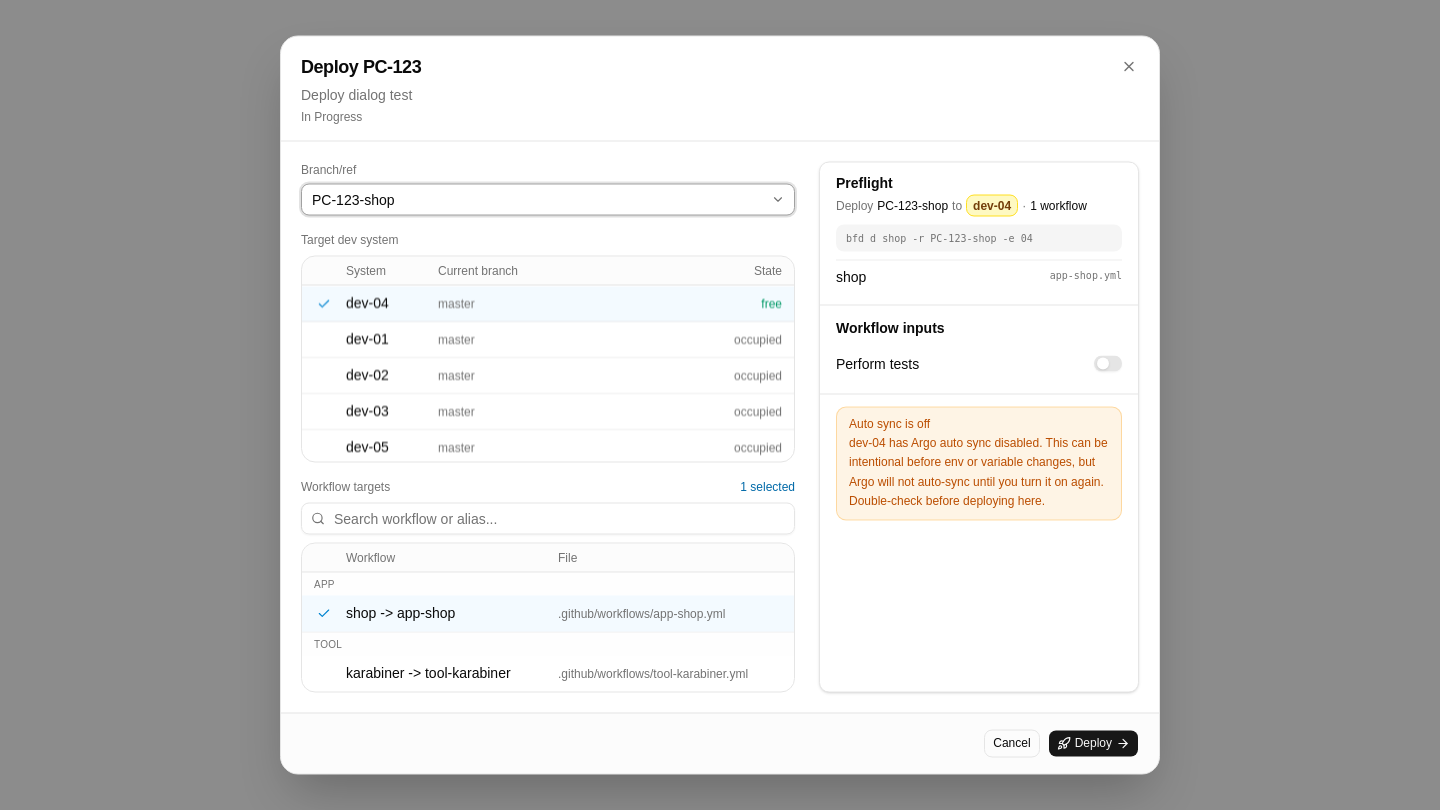
Test: allows deselecting every workflow and disables deploy
Click the text "shop -> app-shop": (401, 613) [346, 605, 455, 621]
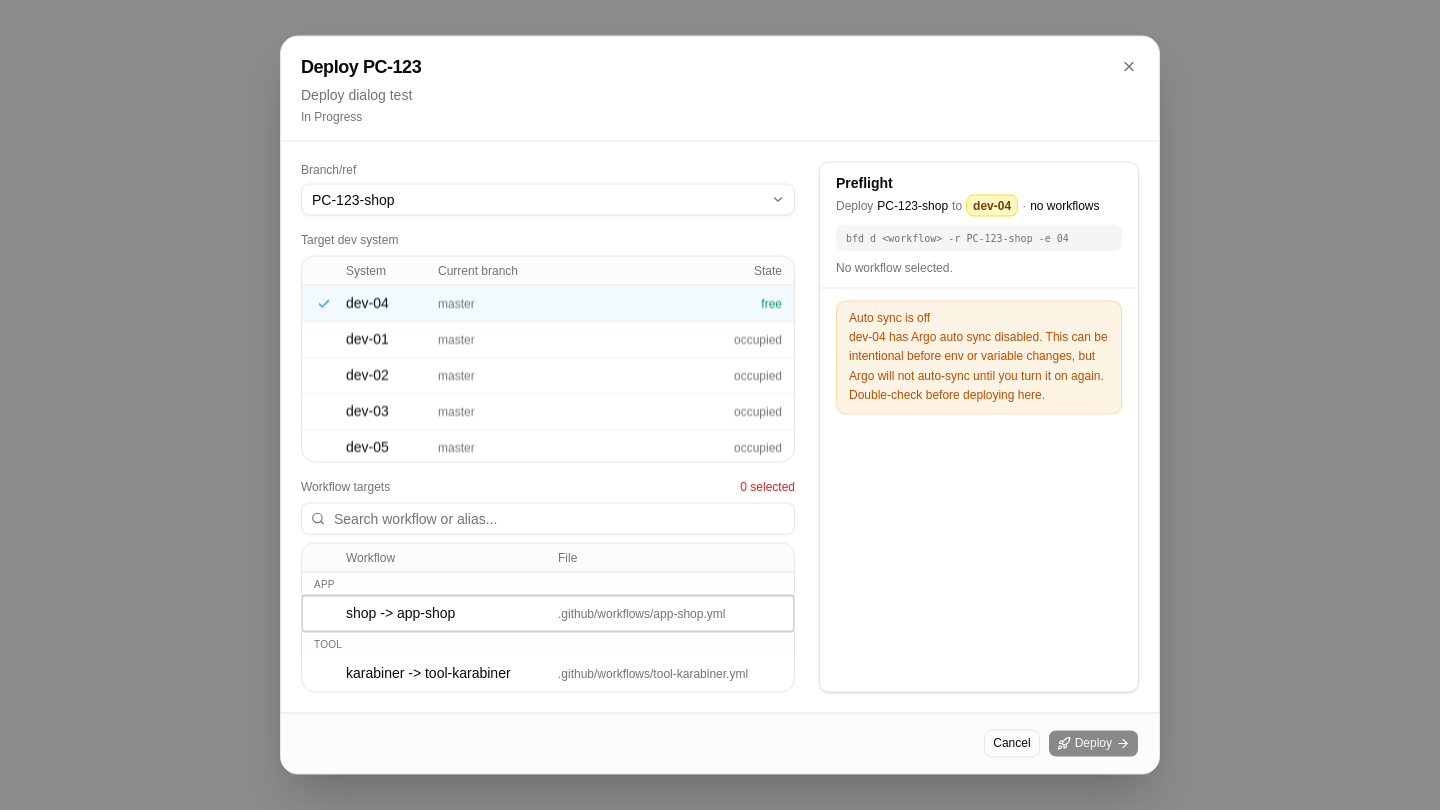
Result: the text "0 selected" is shown at [740, 478, 795, 494]
Result: the button "Deploy" is disabled at [1048, 730, 1139, 758]
